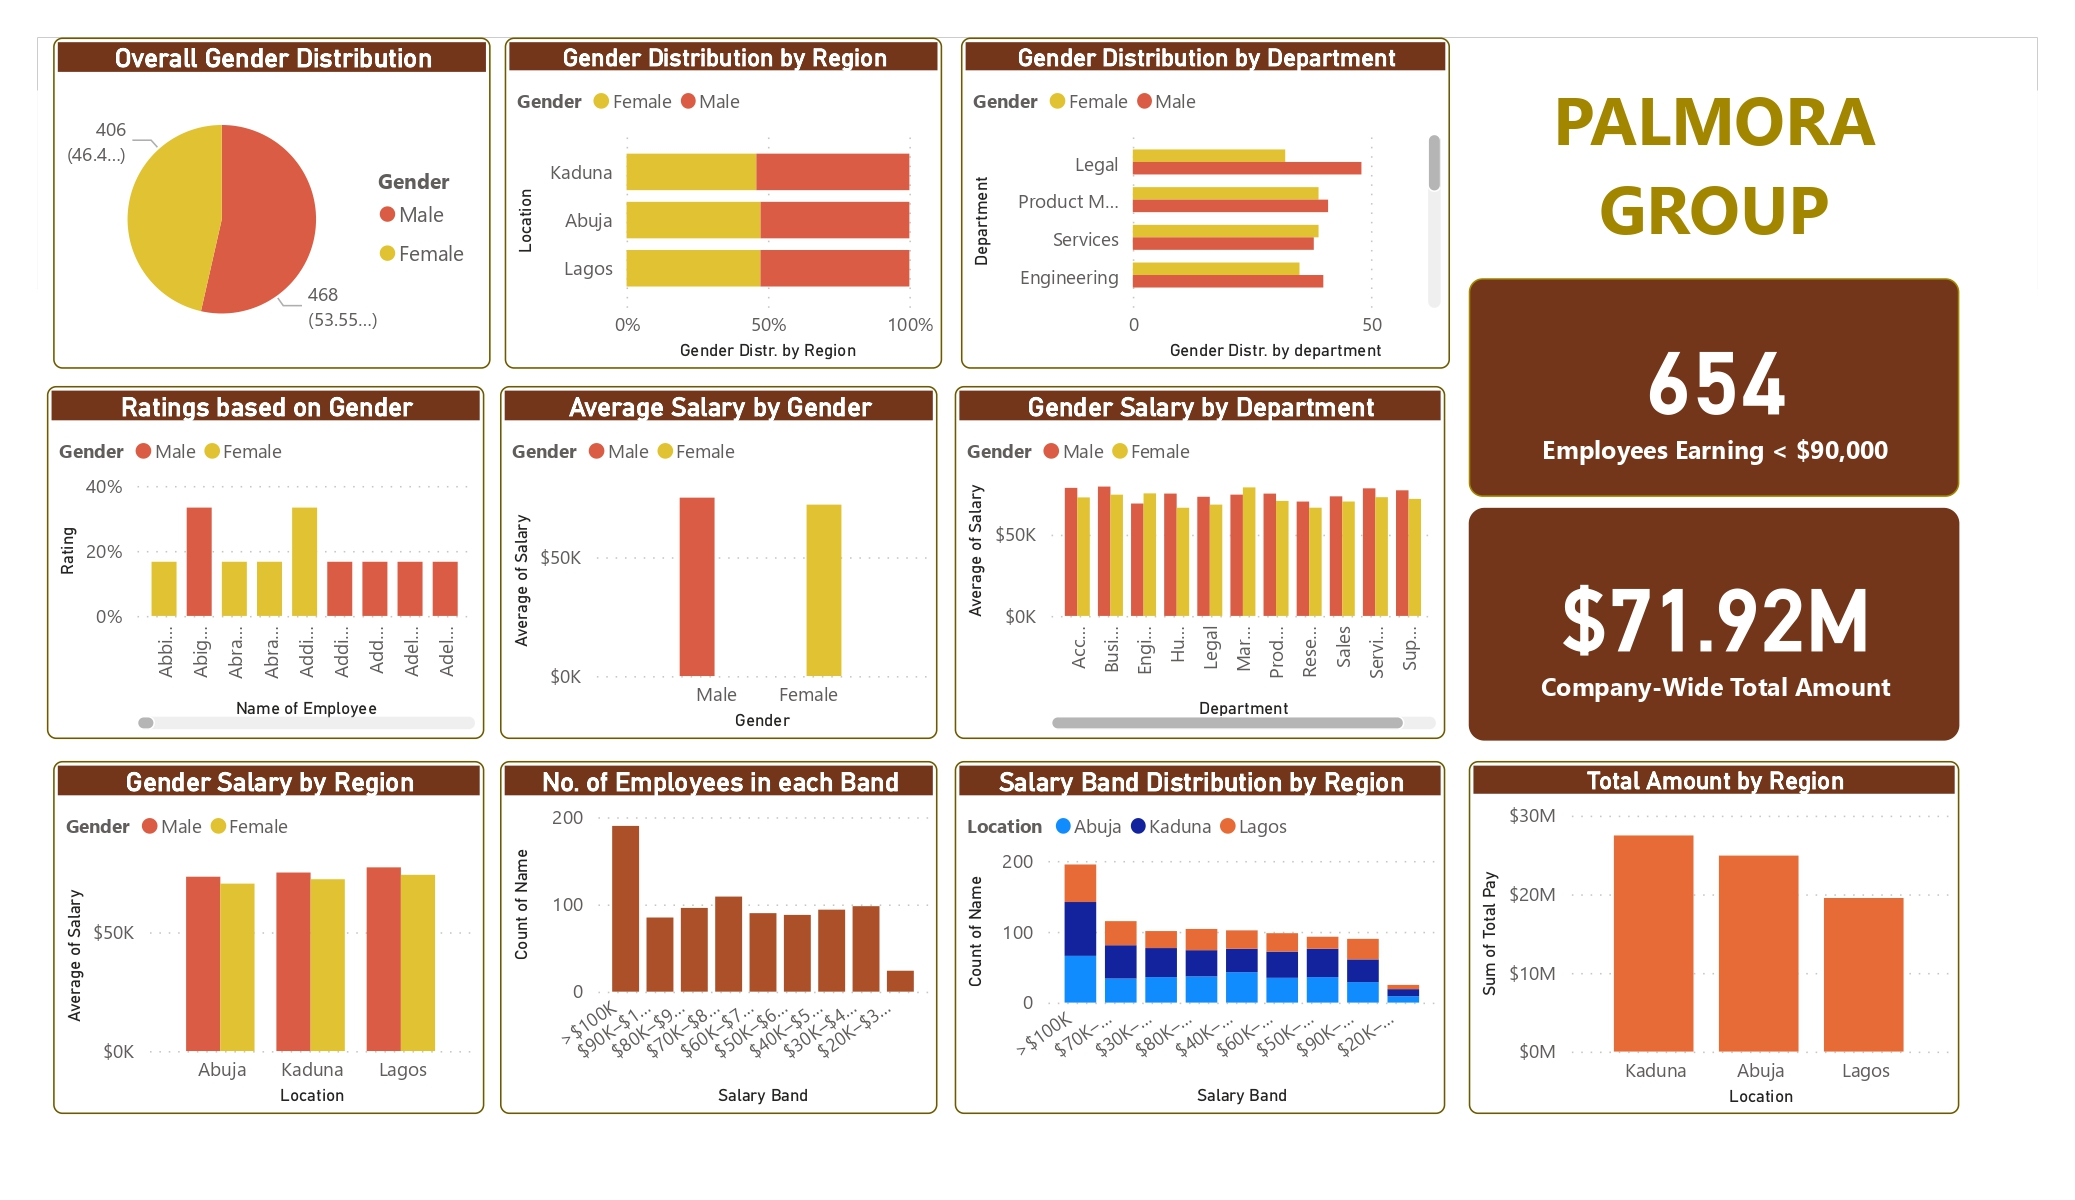

The dashboard page shown, as its layout file describes it:
{"tool":"powerbi","page":{"name":"Page 1","canvas":[1280,720],"ordinal":0},"visuals":[{"type":"pieChart","title":"Overall Gender Distribution","fields":{"Category":["Palmoria Group emp-data.Gender"],"Y":["Palmoria Group emp-data.Name"]},"box":[9.7,0,279.9,212],"z":0},{"type":"hundredPercentStackedBarChart","title":"Gender Distribution by Region","fields":{"Series":["Palmoria Group emp-data.Gender"],"Category":["Palmoria Group emp-data.Location"],"Y":["Palmoria Group emp-data.Name"]},"box":[299.3,0,279.9,212],"z":1000},{"type":"clusteredBarChart","title":"Gender Distribution by Department","fields":{"Category":["Palmoria Group emp-data.Department"],"Series":["Palmoria Group emp-data.Gender"],"Y":["Palmoria Group emp-data.Name"]},"box":[590.6,0,313.9,212],"z":2000},{"type":"columnChart","title":"Ratings based on Gender","fields":{"Series":["Palmoria Group emp-data.Gender"],"Category":["Palmoria Group emp-data.Rating"],"Y":["Palmoria Group emp-data.Name"]},"box":[6.5,222.7,279.9,226.5],"z":3000},{"type":"clusteredColumnChart","title":"Average Salary by Gender","fields":{"Series":["Palmoria Group emp-data.Gender"],"Y":["Palmoria Group emp-data.Salary"],"Category":["Palmoria Group emp-data.Gender"]},"box":[296.1,222.7,279.9,226.5],"z":4000},{"type":"clusteredColumnChart","title":"Gender Salary by Department","fields":{"Series":["Palmoria Group emp-data.Gender"],"Y":["Palmoria Group emp-data.Salary"],"Category":["Palmoria Group emp-data.Department"]},"box":[587.3,222.7,313.9,226.5],"z":5000},{"type":"clusteredColumnChart","title":"Gender Salary by Region","fields":{"Series":["Palmoria Group emp-data.Gender"],"Y":["Palmoria Group emp-data.Salary"],"Category":["Palmoria Group emp-data.Location"]},"box":[9.7,462.7,276.7,226.5],"z":6000},{"type":"card","fields":{"Values":["Palmoria Group emp-data.Below_Min_Salary"]},"box":[915.8,153.7,313.9,140.8],"z":7000},{"type":"columnChart","title":"No. of Employees in each Band","fields":{"Category":["Palmoria Group emp-data.Salary Band"],"Y":["Palmoria Group emp-data.Name"]},"box":[296.1,462.7,279.9,226.5],"z":8000},{"type":"columnChart","title":"Salary Band Distribution by Region","fields":{"Series":["Palmoria Group emp-data.Location"],"Category":["Palmoria Group emp-data.Salary Band"],"Y":["Palmoria Group emp-data.Name"]},"box":[587.3,462.7,313.9,226.5],"z":9000},{"type":"lineStackedColumnComboChart","title":"Total Amount by Region","fields":{"Category":["Palmoria Group emp-data.Location"],"Y":["Palmoria Group emp-data.Total Pay"]},"box":[915.8,462.7,313.9,226.5],"z":11000},{"type":"card","fields":{"Values":["Palmoria Group emp-data.Total Pay"]},"box":[915.8,300.9,313.9,148.9],"z":11001},{"type":"textbox","box":[915.8,17.8,313.9,135.9],"z":11002}]}

Visuals, with their boxes on the page's 1280x720 design canvas (x1, y1, x2, y2). These are canvas units, not pixel positions in the 2075x1200 screenshot, which may show the page scaled, cropped or inside an application window:
"Overall Gender Distribution" pieChart: region(10, 0, 290, 212)
"Gender Distribution by Region" hundredPercentStackedBarChart: region(299, 0, 579, 212)
"Gender Distribution by Department" clusteredBarChart: region(591, 0, 904, 212)
"Ratings based on Gender" columnChart: region(6, 223, 286, 449)
"Average Salary by Gender" clusteredColumnChart: region(296, 223, 576, 449)
"Gender Salary by Department" clusteredColumnChart: region(587, 223, 901, 449)
"Gender Salary by Region" clusteredColumnChart: region(10, 463, 286, 689)
card - Palmoria Group emp-data.Below_Min_Salary: region(916, 154, 1230, 294)
"No. of Employees in each Band" columnChart: region(296, 463, 576, 689)
"Salary Band Distribution by Region" columnChart: region(587, 463, 901, 689)
"Total Amount by Region" lineStackedColumnComboChart: region(916, 463, 1230, 689)
card - Palmoria Group emp-data.Total Pay: region(916, 301, 1230, 450)
textbox: region(916, 18, 1230, 154)
